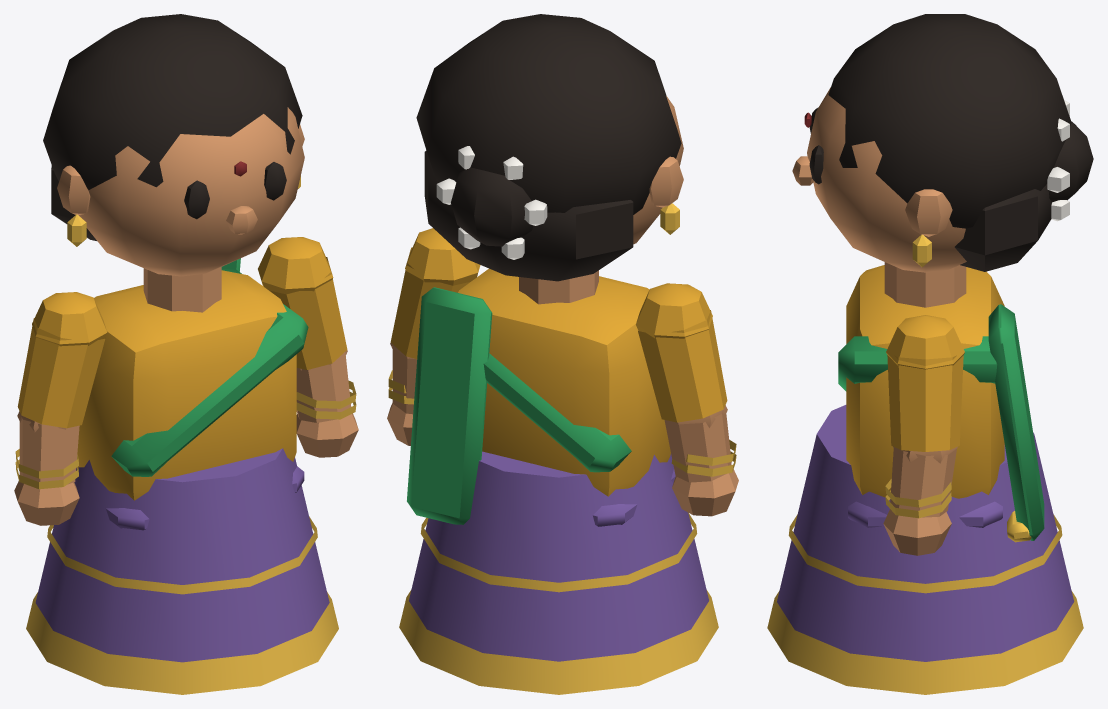
The model's file is trav_baraati_f.glb.
3 views of the same model, side by side, from view 1: azimuth 30°, elevation 25°; view 2: azimuth 150°, elevation 25°; view 3: azimuth 270°, elevation 25° (orthographic). The views are drawn at different scales.
Visible parts, largest first — view 1: body, head, arm_r, arm_l; view 2: body, head, arm_r, arm_l; view 3: body, head, arm_l.
Part boxes in pixels (x1=…): body: x1=26, y1=258, x2=338, y2=694; head: x1=43, y1=14, x2=304, y2=276; arm_r: x1=14, y1=292, x2=107, y2=525; arm_l: x1=258, y1=237, x2=358, y2=457; body: x1=399, y1=268, x2=718, y2=694; head: x1=416, y1=14, x2=683, y2=281; arm_r: x1=636, y1=283, x2=738, y2=516; arm_l: x1=387, y1=228, x2=480, y2=445; body: x1=767, y1=262, x2=1083, y2=694; head: x1=792, y1=14, x2=1093, y2=272; arm_l: x1=883, y1=315, x2=964, y2=555.
Size of the model in its own units: 0.5741 by 0.9984 by 0.4752.
Materials: 1 (1 with a texture image).
